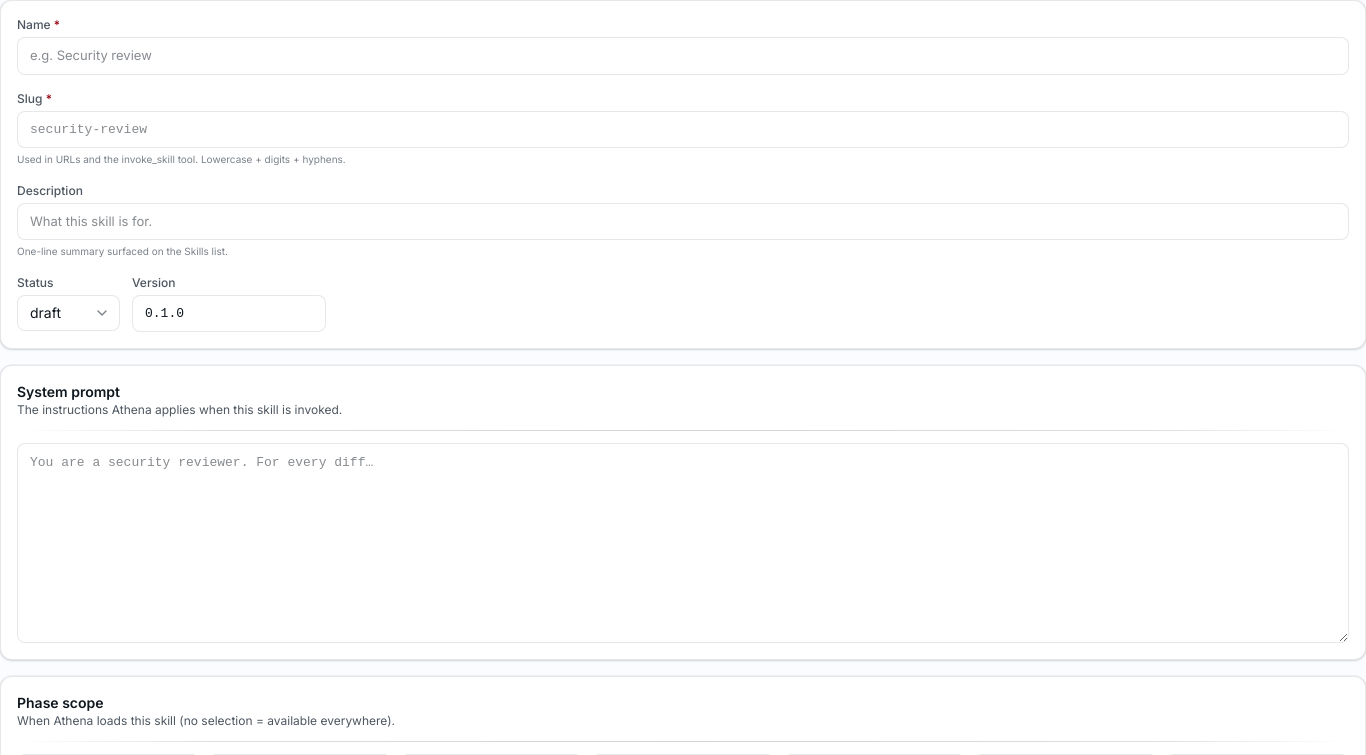
<SkillForm/> create mode › shows a slug-format error when the user types an invalid slug
Type "-bad" into the field with test id "skill-form-slug" at (683, 129), box [17, 110, 1349, 148]
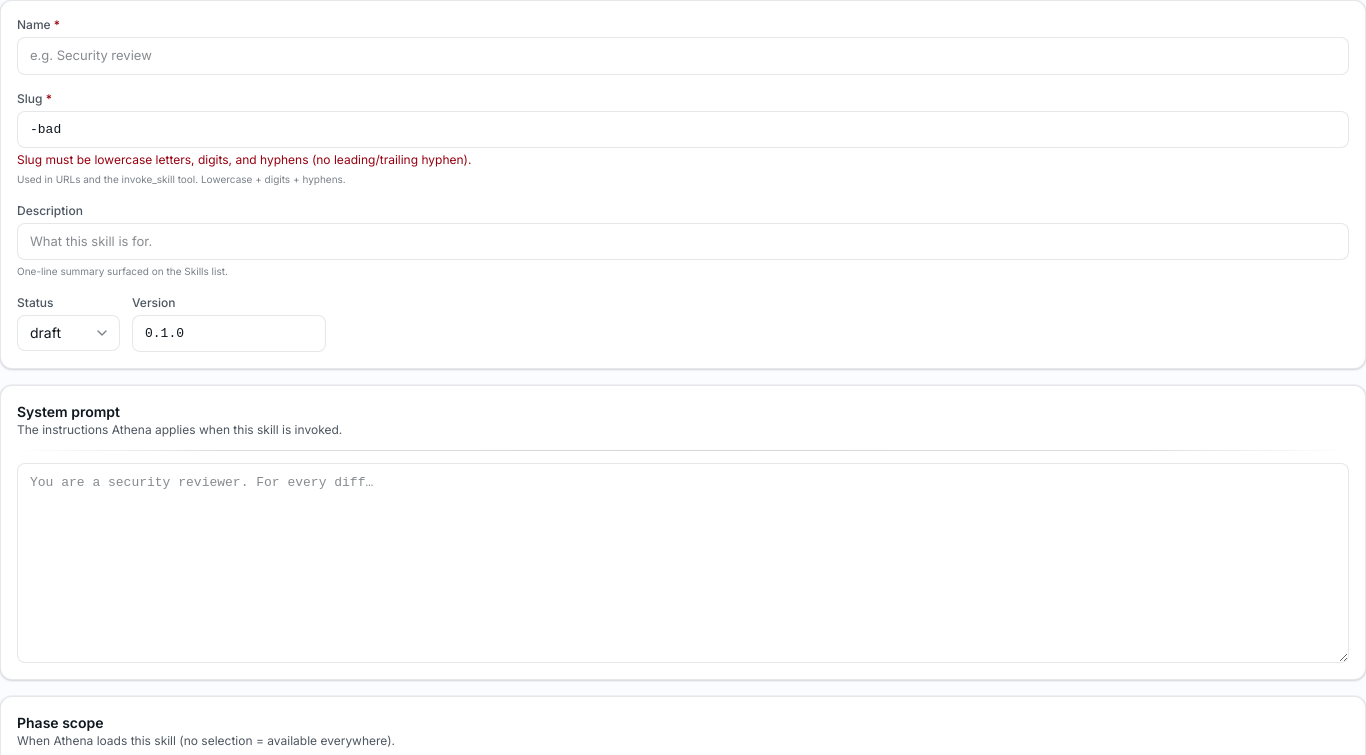
Now the text "lowercase letters" is shown, box [17, 152, 472, 167]
Replace the text in the field with test id "skill-form-slug" with "bad-" at (683, 129), box [17, 110, 1349, 148]
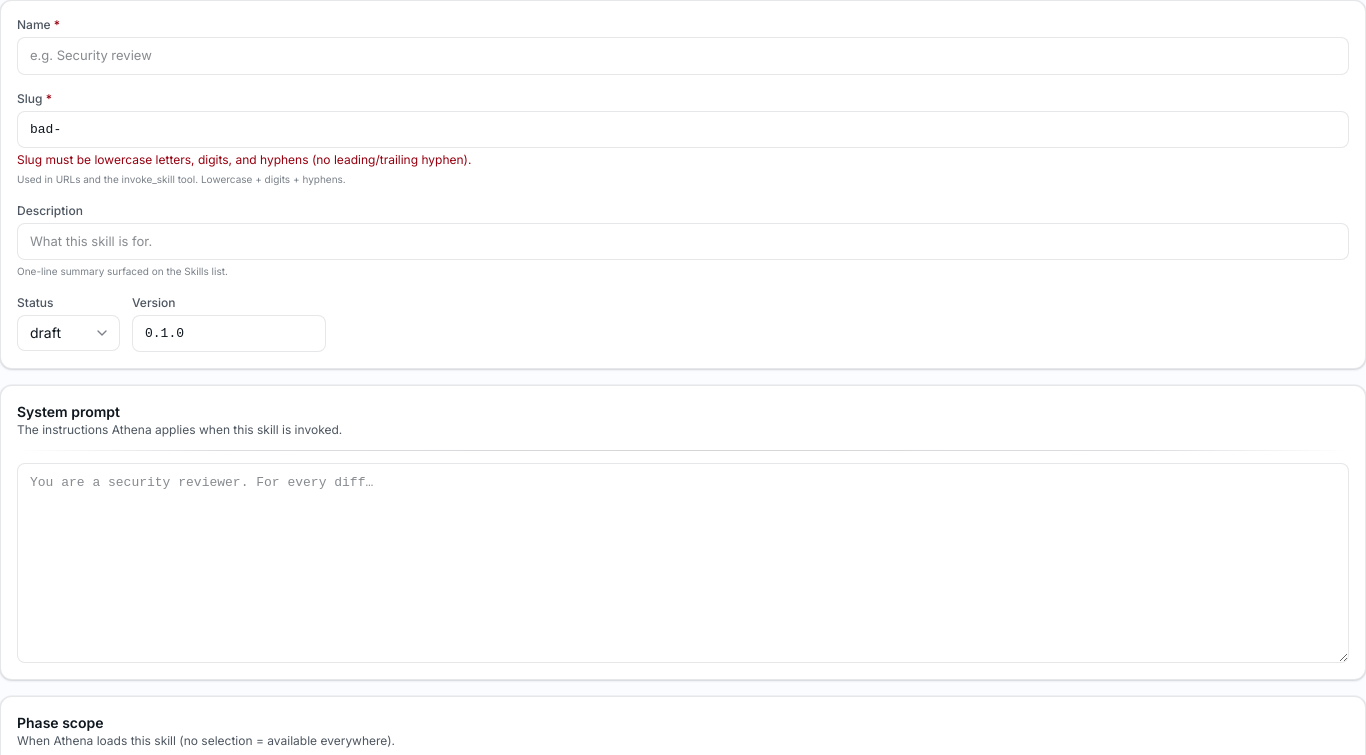
Now the text "lowercase letters" is shown, box [17, 152, 472, 167]
Replace the text in the field with test id "skill-form-slug" with "ok-slug" at (683, 129), box [17, 110, 1349, 148]
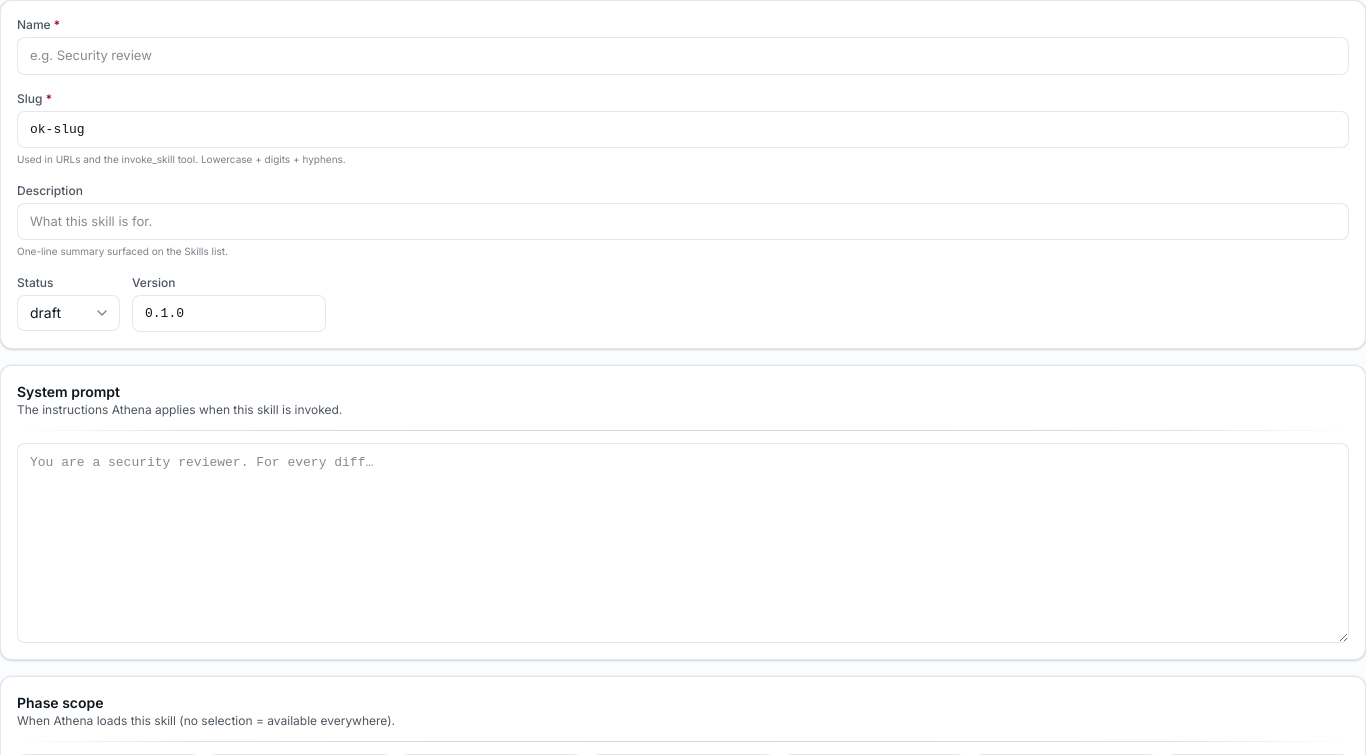
Now the text "lowercase letters" is gone
